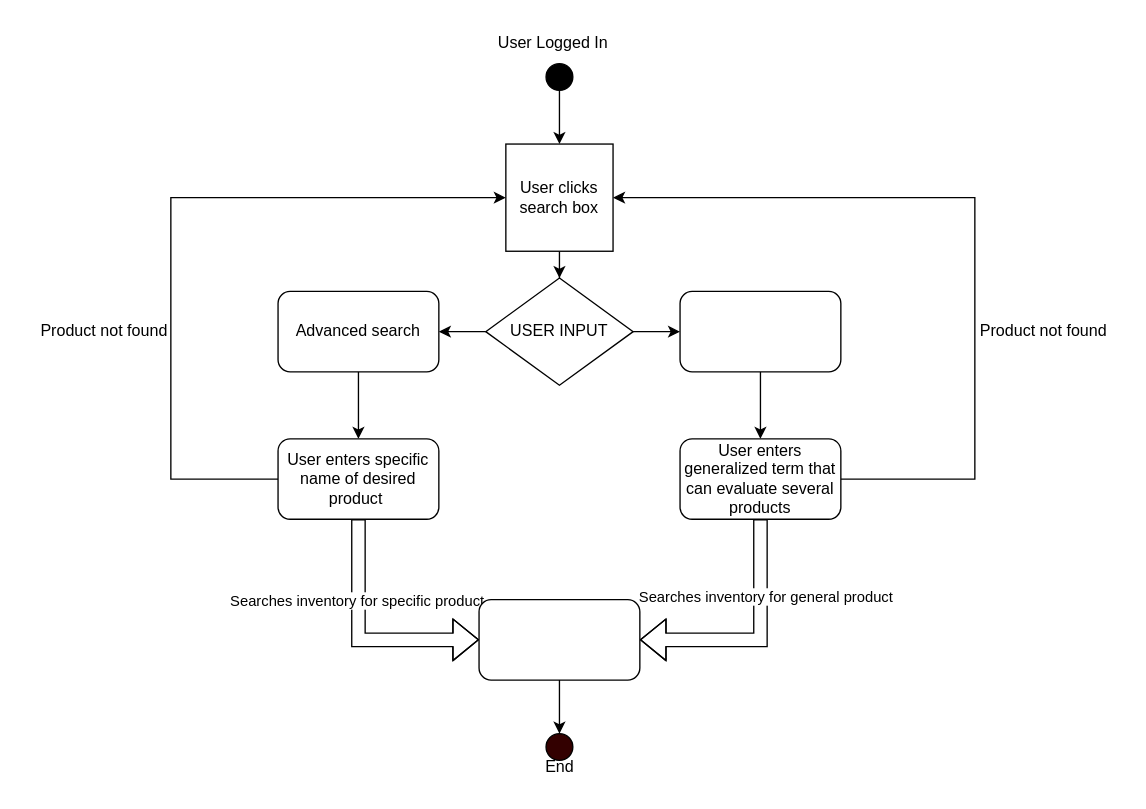
Image size: 1146x809. Some labels were removed from this diagram. The shapes that lost their labels are listed below. From the top down, each one's centre as x and y in pixels, then its label:
the point at 760,331: Simple search
the point at 559,639: SEARCH RESULTS
